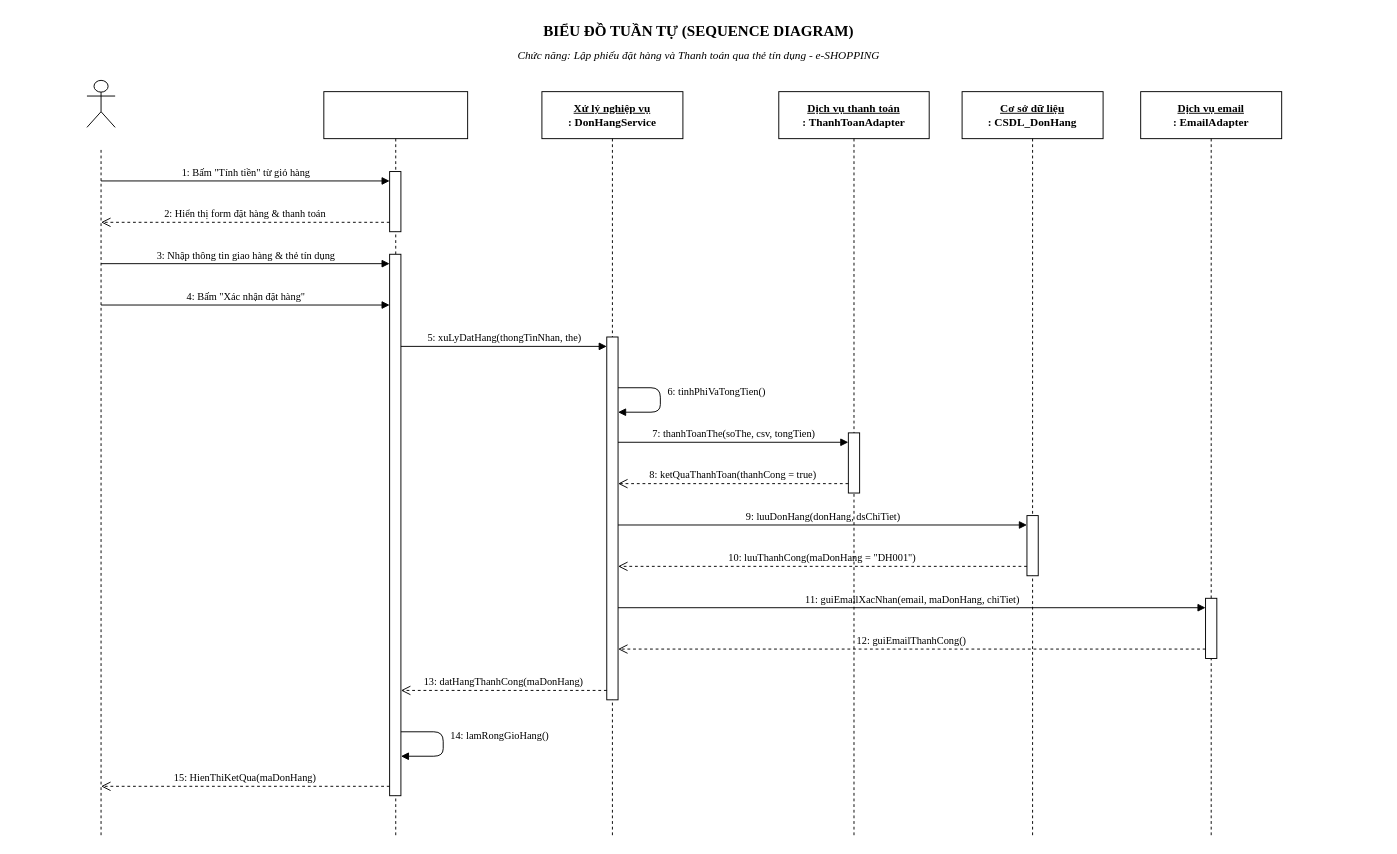
Some shapes in this 1397 by 854 pixel diagram are drawn without their labels. Each missing label, with the box of its shape:
Khách hàng: (86, 79, 115, 127)
Màn hình đặt hàng : FrmDatHang: (323, 91, 468, 837)
